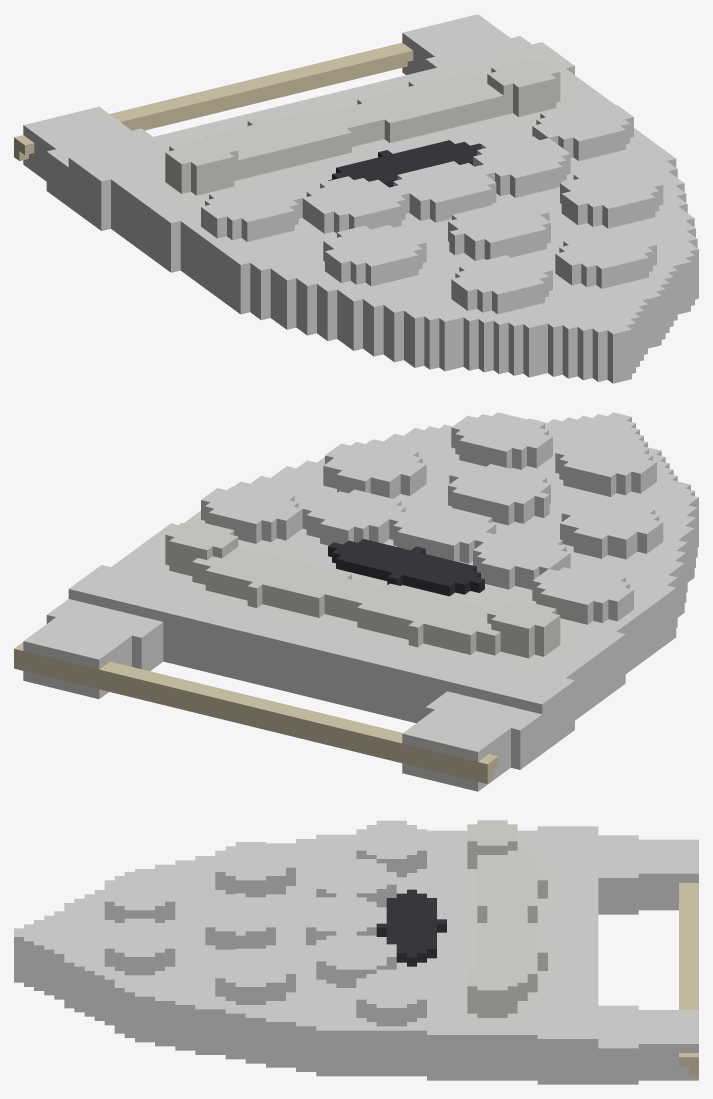
Rendered from santa_beard.glb.
The picture shows the model from 3 angles, top to bottom: view 1: azimuth 30°, elevation 25°; view 2: azimuth 150°, elevation 25°; view 3: azimuth 270°, elevation 25°; orthographic projection. The views are drawn at different scales.
Parts seen in each view (by area): view 1: santa_beard:compound; view 2: santa_beard:compound; view 3: santa_beard:compound.
Boxes of the visible parts, x1,y1,x2,y2 form: santa_beard:compound: (14, 14, 698, 383); santa_beard:compound: (14, 412, 698, 791); santa_beard:compound: (14, 820, 698, 1084).
Size of the model in its own units: 0.2 by 0.032 by 0.272.
